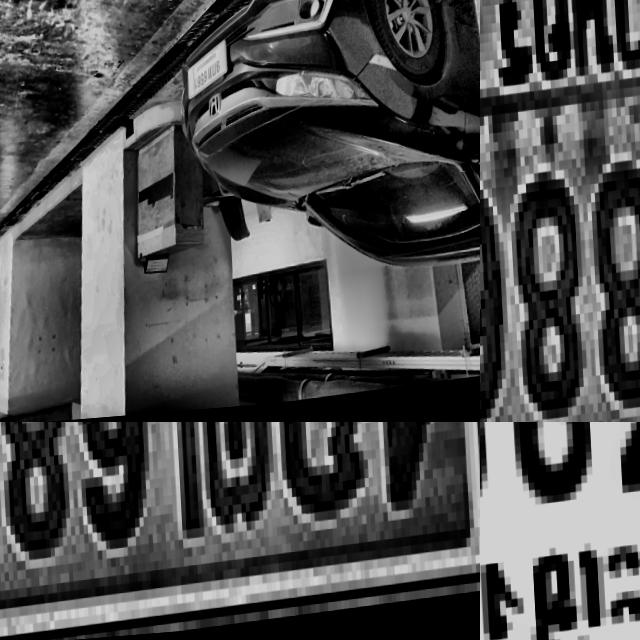license-plate: (0, 422, 480, 640), (480, 0, 640, 422), (480, 422, 640, 640), (184, 40, 232, 107)
